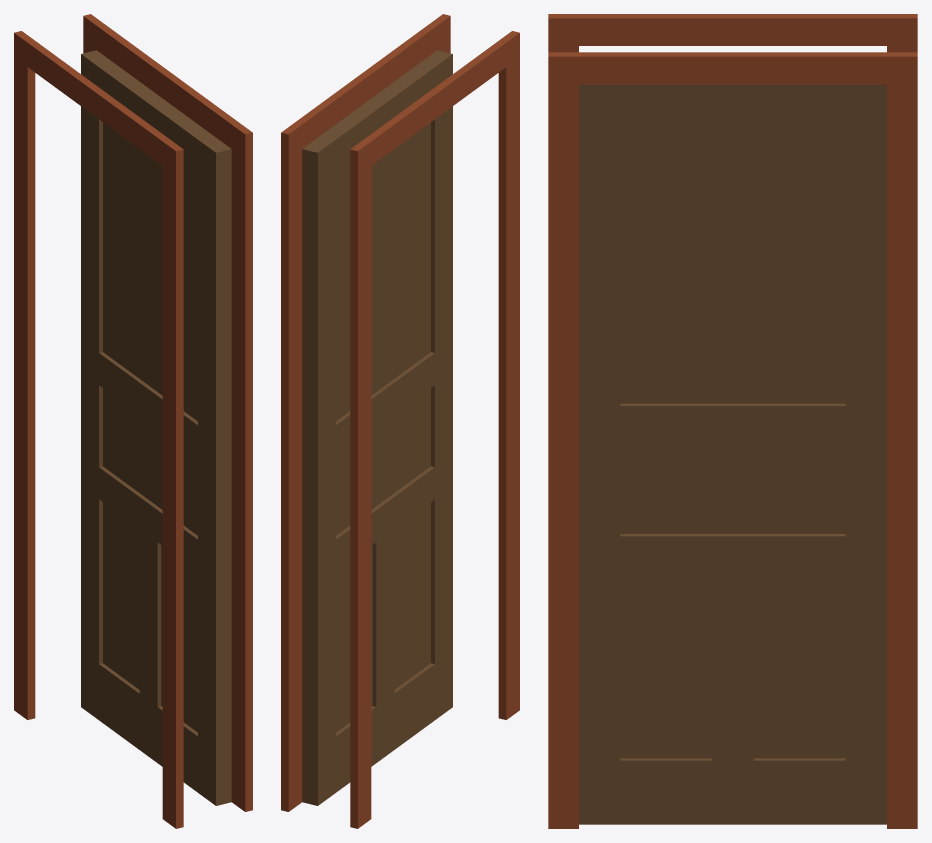
File: 3X414Lh312cfMiVfxwGTdz.dae
The picture shows the model from 3 angles, left to right: view 1: azimuth 30°, elevation 25°; view 2: azimuth 150°, elevation 25°; view 3: azimuth 270°, elevation 25°; orthographic projection. The views are drawn at different scales.
Visible parts, largest first — view 1: product-e1101115-ac30-429a-95ac-7e9efa41d9fd-body; view 2: product-e1101115-ac30-429a-95ac-7e9efa41d9fd-body; view 3: product-e1101115-ac30-429a-95ac-7e9efa41d9fd-body.
Boxes of the visible parts, bbox=[...] form: product-e1101115-ac30-429a-95ac-7e9efa41d9fd-body: bbox=[14, 14, 252, 828]; product-e1101115-ac30-429a-95ac-7e9efa41d9fd-body: bbox=[281, 14, 519, 828]; product-e1101115-ac30-429a-95ac-7e9efa41d9fd-body: bbox=[548, 14, 917, 828].
Size of the model in its own units: 0.25 by 0.914 by 2.11.
